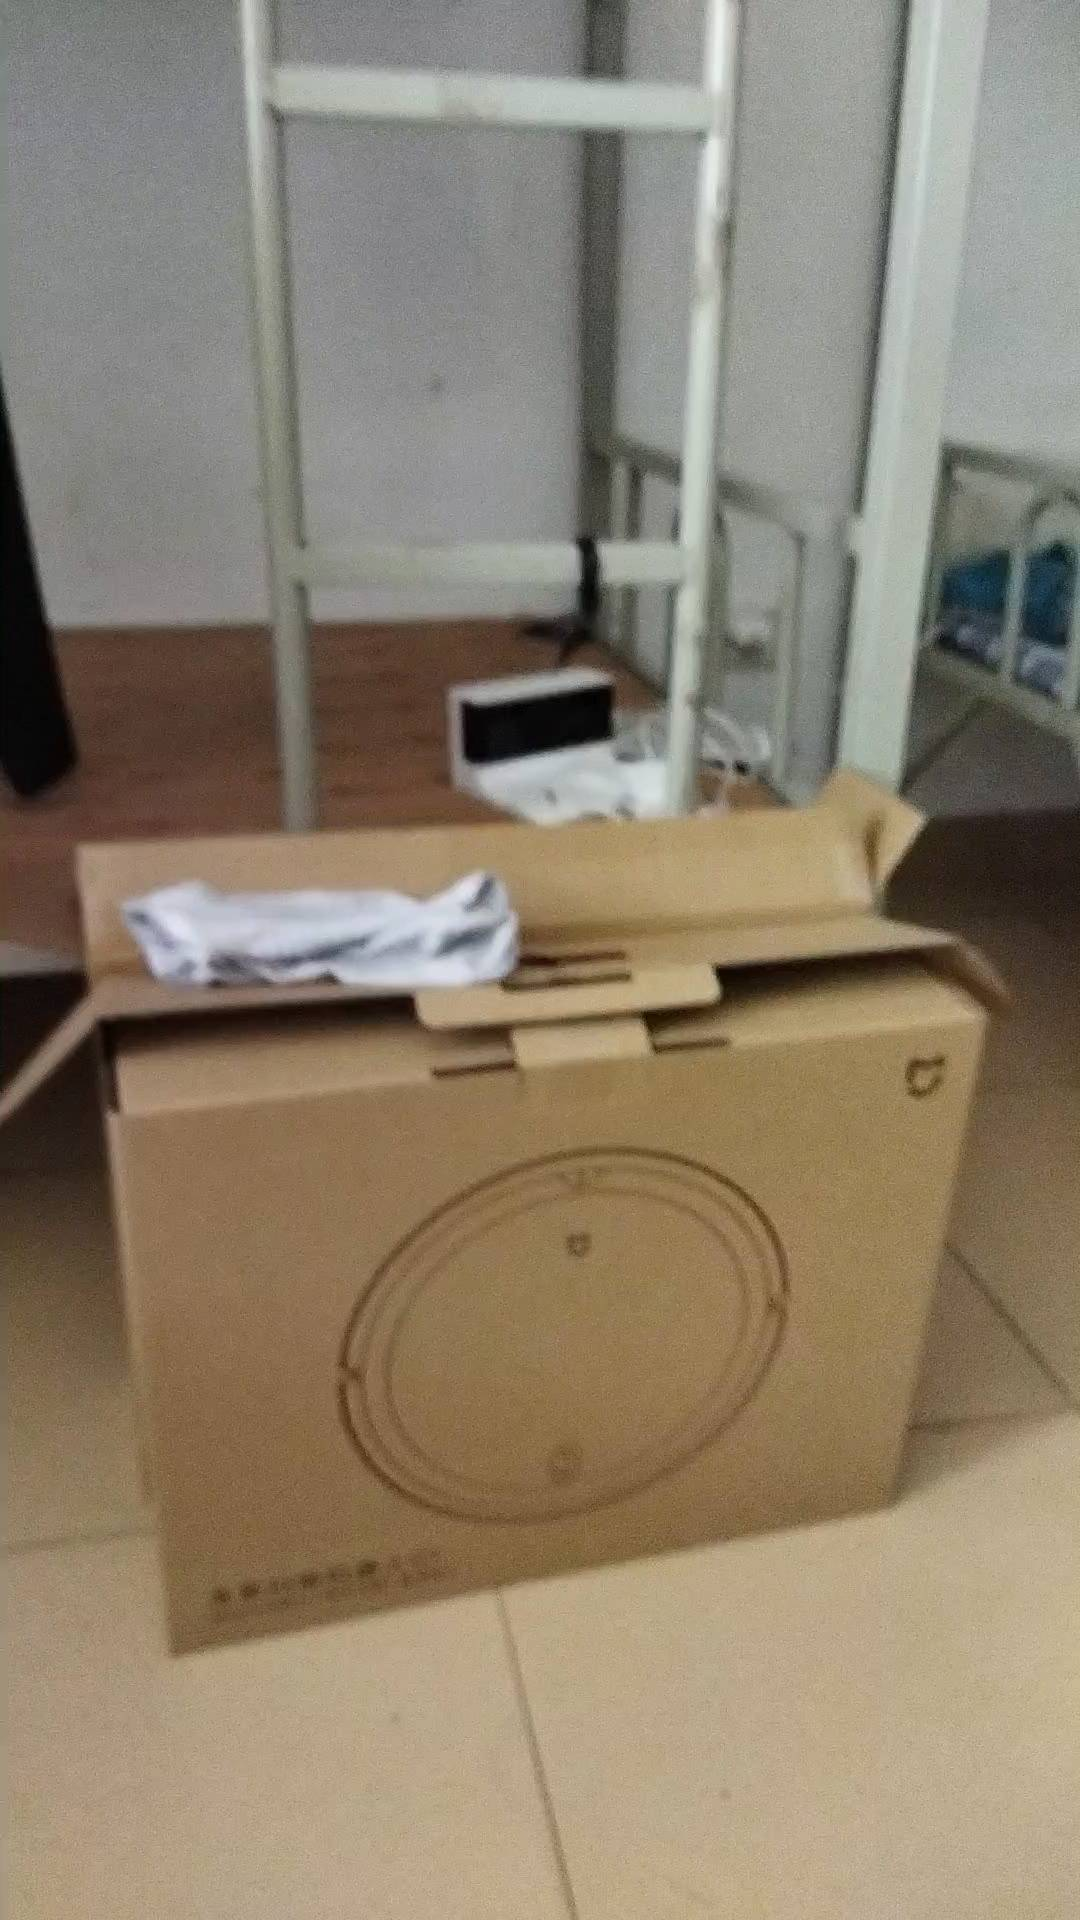recharge seat: (442, 665, 653, 824)
